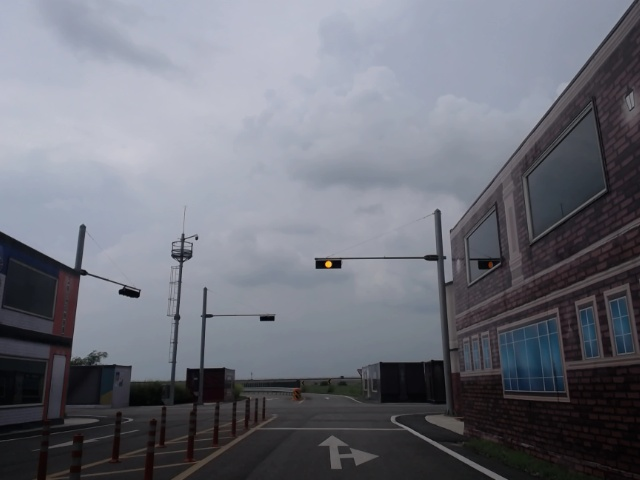orange_3: (316, 259, 341, 270)
